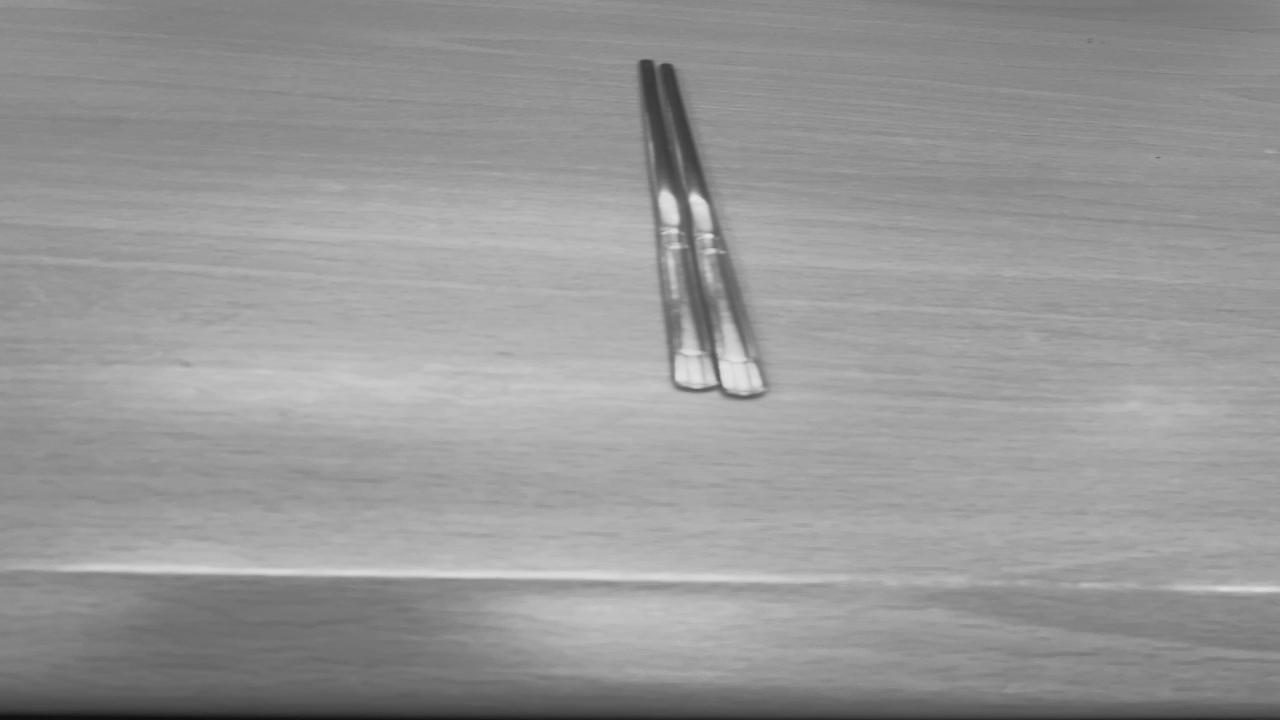chopstick: (639, 60, 762, 393)
